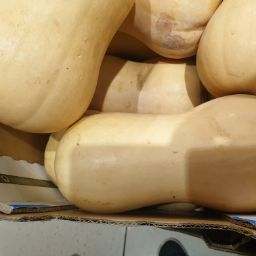Butternut Squash: (2, 2, 140, 221), (42, 83, 256, 223), (91, 1, 256, 119)
